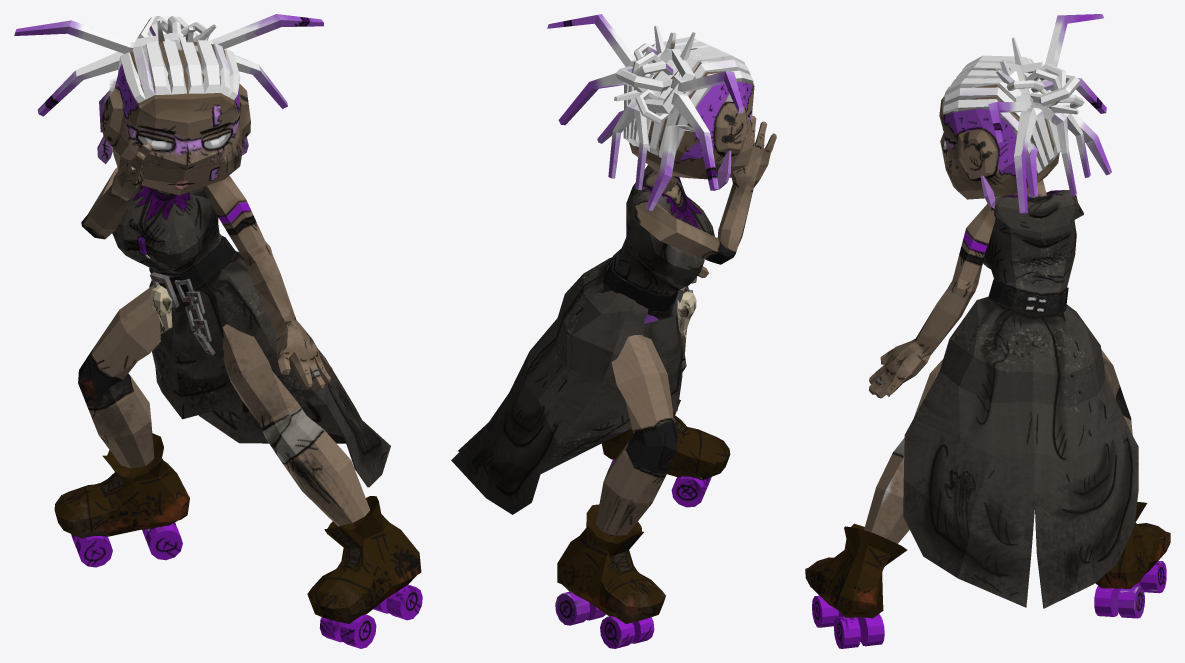
The model's file is bruja_000029.obj.
3 renders of one model, left to right at view 1: azimuth 30°, elevation 25°; view 2: azimuth 150°, elevation 25°; view 3: azimuth 270°, elevation 25°, orthographic. The views are drawn at different scales.
Parts seen in each view (by area): view 1: Bruja_Plane.001; view 2: Bruja_Plane.001; view 3: Bruja_Plane.001.
Boxes of the visible parts, bbox=[...] form: Bruja_Plane.001: bbox=[14, 14, 422, 648]; Bruja_Plane.001: bbox=[451, 14, 776, 648]; Bruja_Plane.001: bbox=[805, 14, 1170, 648].
Bounding box in the file's own units: 9.25 × 15.45 × 9.24.
